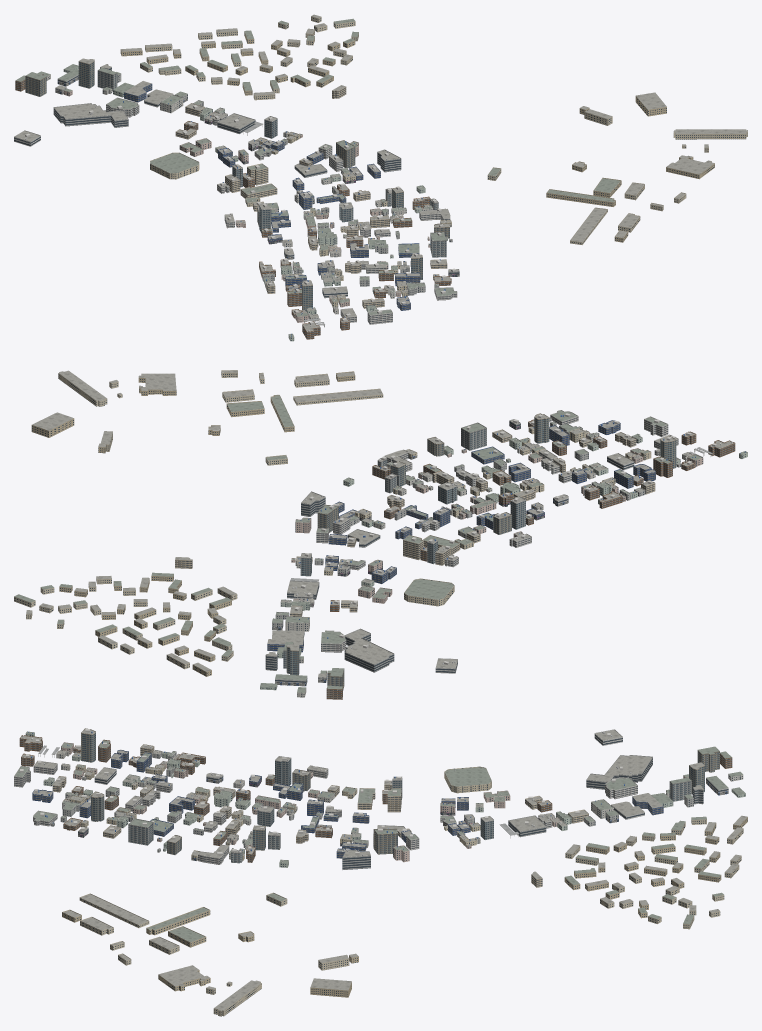
File: ArahaTown_Block_E00000_N00000.gltf
3 views of the same model, one above another, from view 1: azimuth 30°, elevation 25°; view 2: azimuth 150°, elevation 25°; view 3: azimuth 270°, elevation 25° (orthographic). The views are drawn at different scales.
Parts seen in each view (by area): view 1: ArahaTown_Block_E00000_N00000; view 2: ArahaTown_Block_E00000_N00000; view 3: ArahaTown_Block_E00000_N00000.
Part boxes in pixels (left/top/right/bottom): ArahaTown_Block_E00000_N00000: left=14, top=14, right=747, bottom=341; ArahaTown_Block_E00000_N00000: left=14, top=370, right=747, bottom=699; ArahaTown_Block_E00000_N00000: left=14, top=728, right=747, bottom=1016.
Bounding box in the file's own units: 975 × 46.62 × 1048.
Materials: 26 (22 with a texture image).
